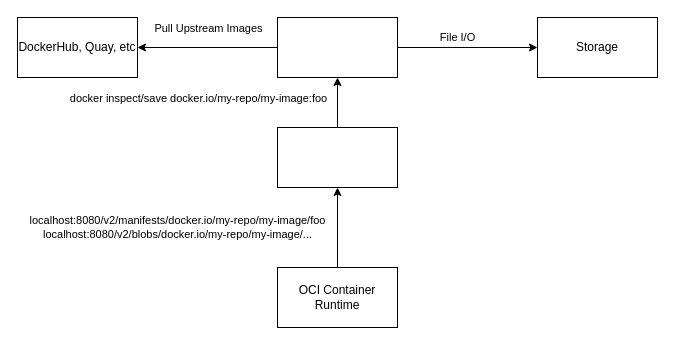
Image size: 675x345. Some labels were removed from this diagram. The centre of each missing label's shape, as x and y in pixels:
"Docker Daemon" goes at (x=337, y=47).
"OCI Reg Docker" goes at (x=337, y=157).
